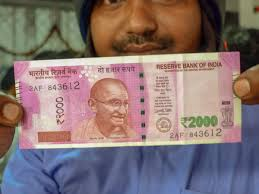twoThousand: (34, 80, 230, 133)
